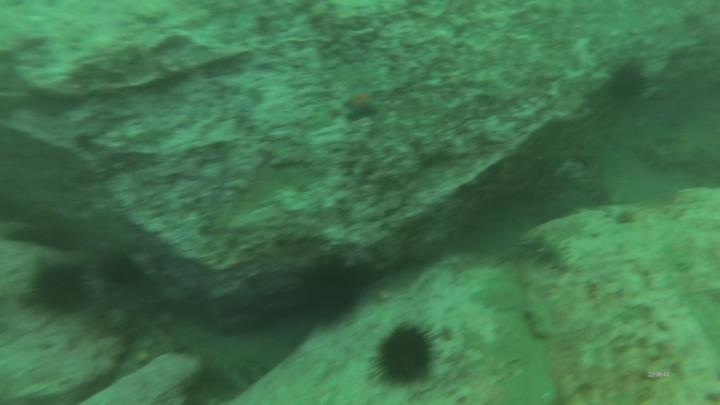echinus: (382, 331, 430, 382), (304, 271, 355, 319), (35, 271, 84, 312), (608, 66, 645, 103), (108, 256, 142, 288)
holothurian: (522, 234, 571, 271)
starfish: (343, 89, 376, 119)
